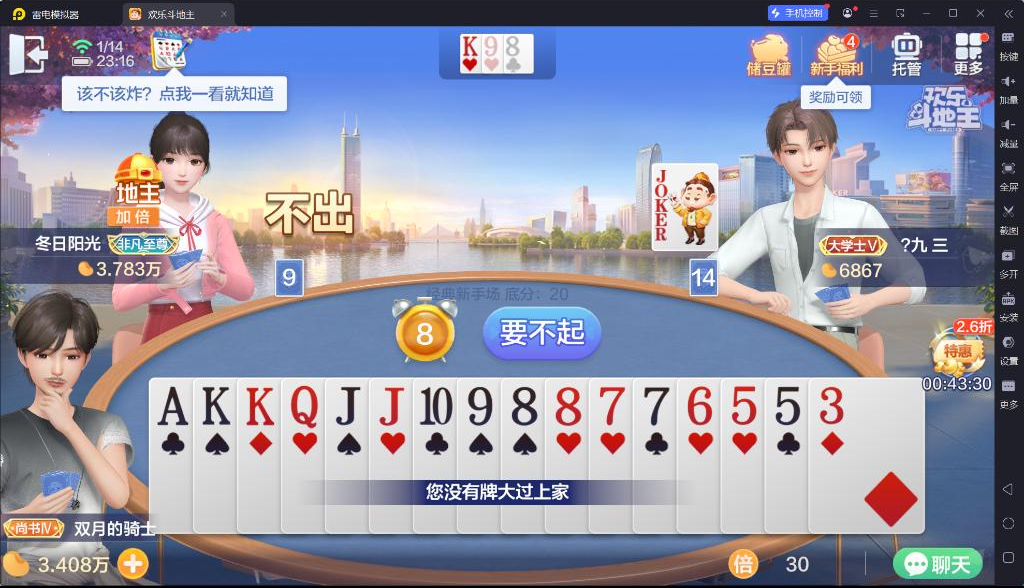A: (154, 384, 191, 430)
J: (332, 384, 362, 427), (376, 384, 406, 427)
JOKER: (654, 165, 672, 218)
K: (242, 384, 277, 430), (200, 384, 234, 427), (461, 35, 479, 58)
Q: (287, 385, 319, 429)
eight: (549, 385, 585, 427), (508, 386, 541, 429), (504, 35, 521, 57)
five: (723, 383, 760, 428), (770, 383, 805, 428)
nine: (462, 382, 496, 428), (482, 35, 500, 58)
seven: (595, 384, 629, 427), (640, 383, 672, 426)
six: (682, 384, 716, 428)
ten: (417, 384, 455, 428)
three: (816, 384, 846, 427)
